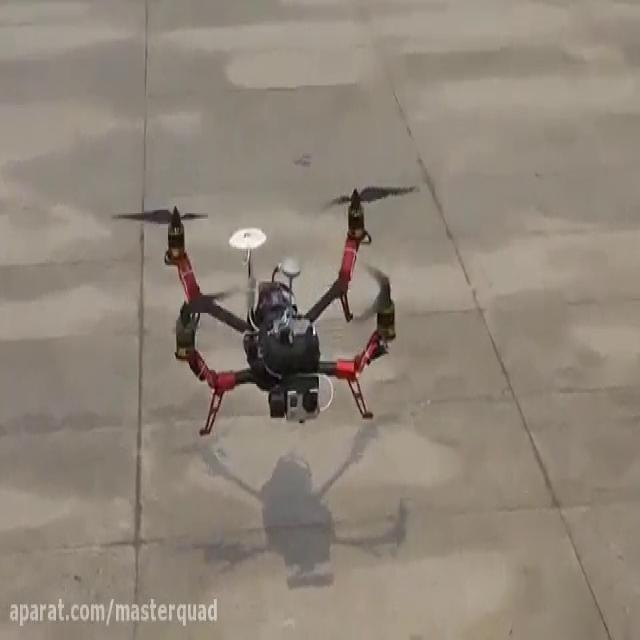drone: (110, 178, 421, 439)
